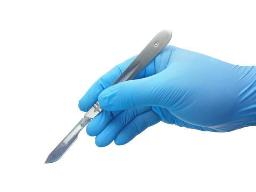scalpel: (44, 28, 172, 164)
